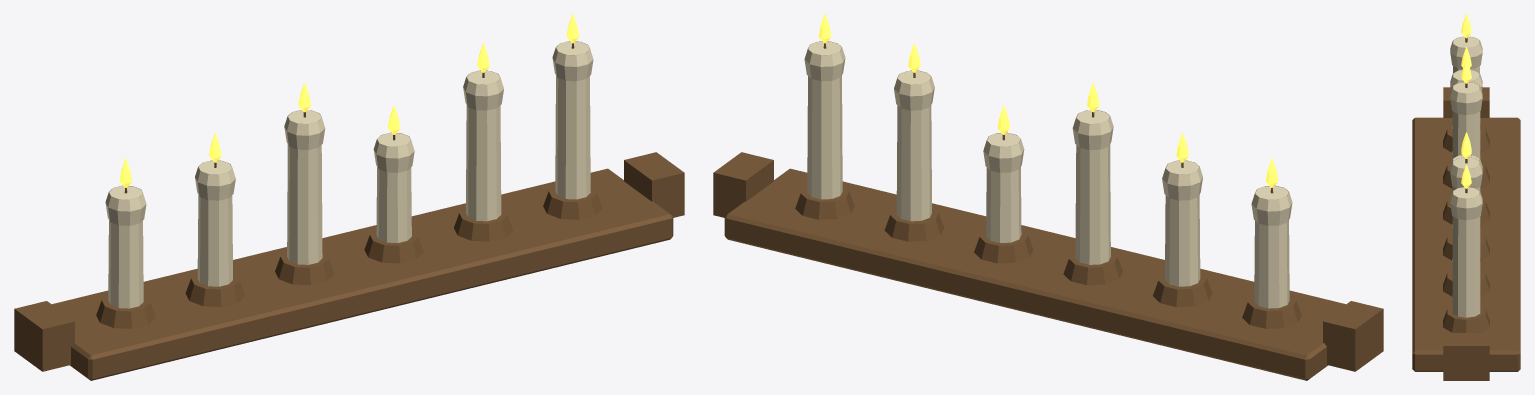
The model's file is Prop_YTM_LessonCandles.glb.
The picture shows the model from 3 angles, left to right: view 1: azimuth 30°, elevation 25°; view 2: azimuth 150°, elevation 25°; view 3: azimuth 270°, elevation 25°; orthographic projection. The views are drawn at different scales.
Parts seen in each view (by area): view 1: Prop_YTM_LessonCandles; view 2: Prop_YTM_LessonCandles; view 3: Prop_YTM_LessonCandles.
Boxes of the visible parts, x1,y1,x2,y2 form: Prop_YTM_LessonCandles: (14,14,684,380); Prop_YTM_LessonCandles: (713,14,1383,380); Prop_YTM_LessonCandles: (1412,14,1520,380).
Size of what is drawn, in the model's own units: 0.79 by 0.2572 by 0.14.
